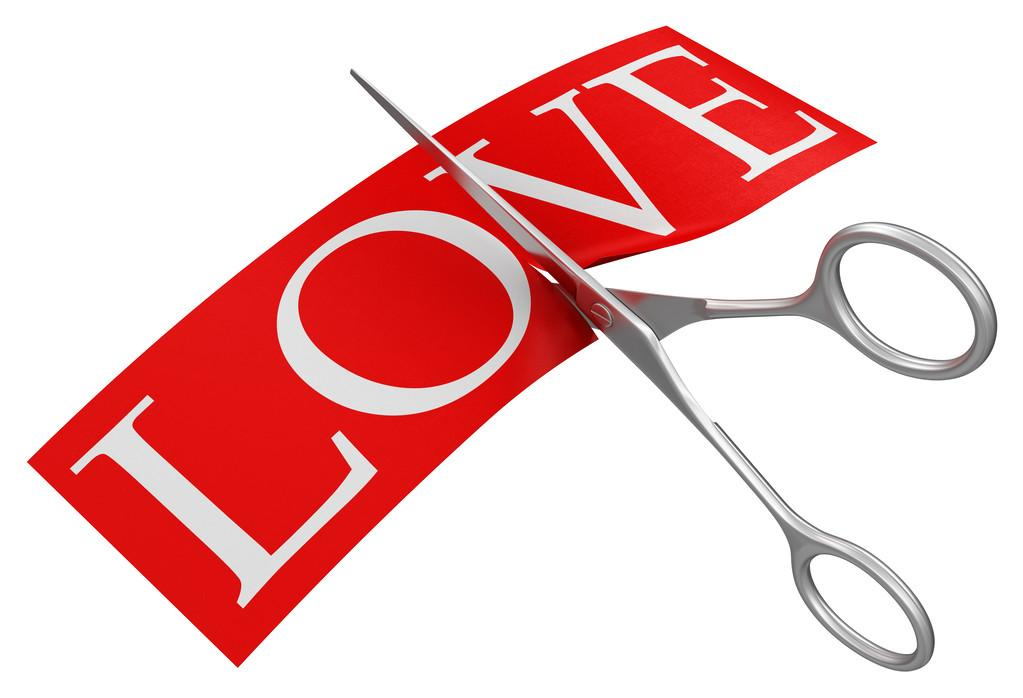scissor: (317, 43, 965, 670)
